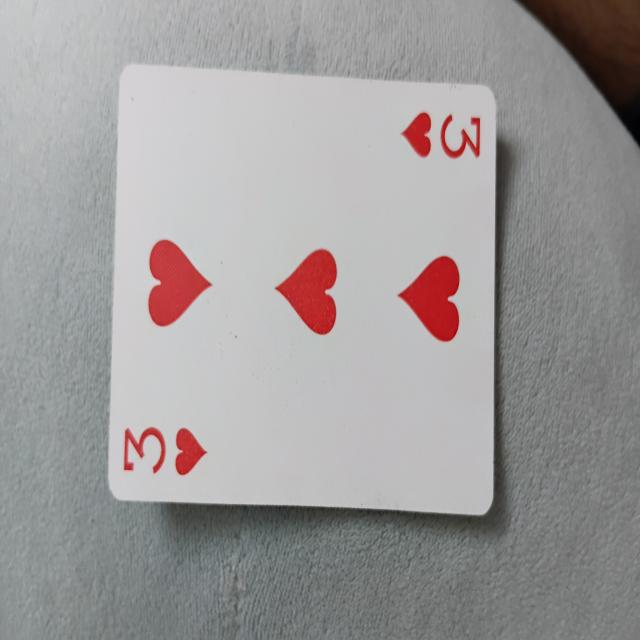3H: (113, 64, 491, 514)
